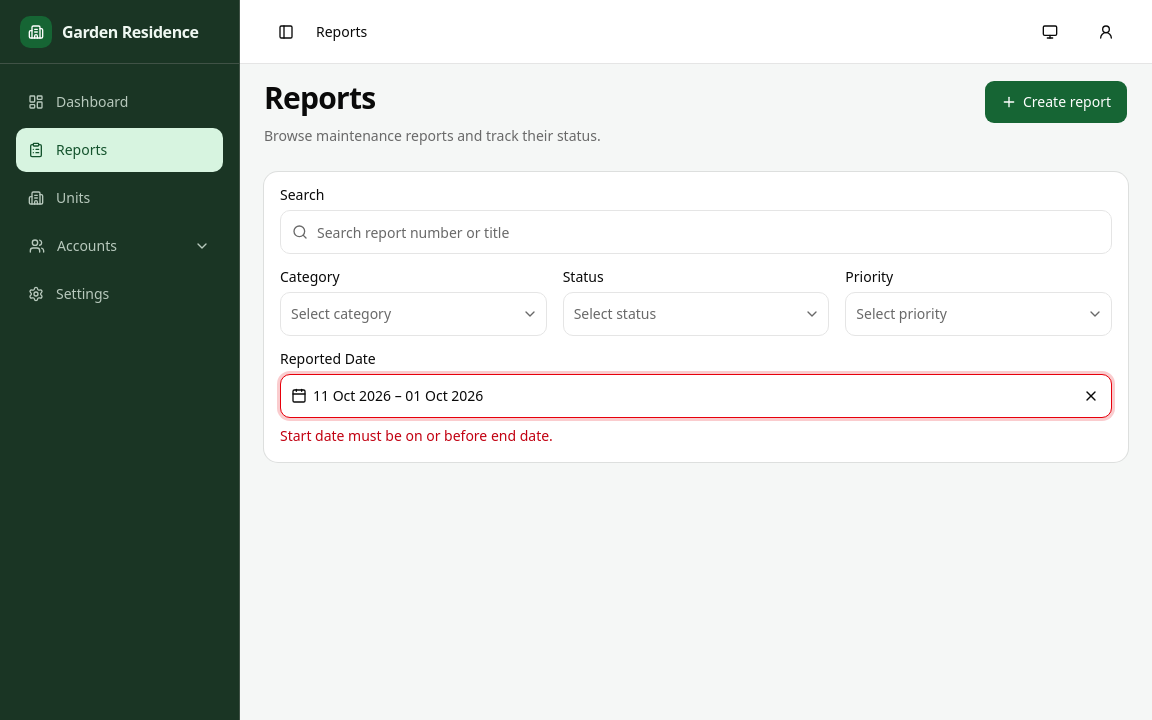
Test case: preserves reversed direct URL dates for correction without reading reports
The image size is (1152, 720).
Expected: the message reads "Start date must be on or before end date.", [280,426,553,445]
Click the button named "Clear reported date" at (1090, 396), box [1068,374,1112,418]
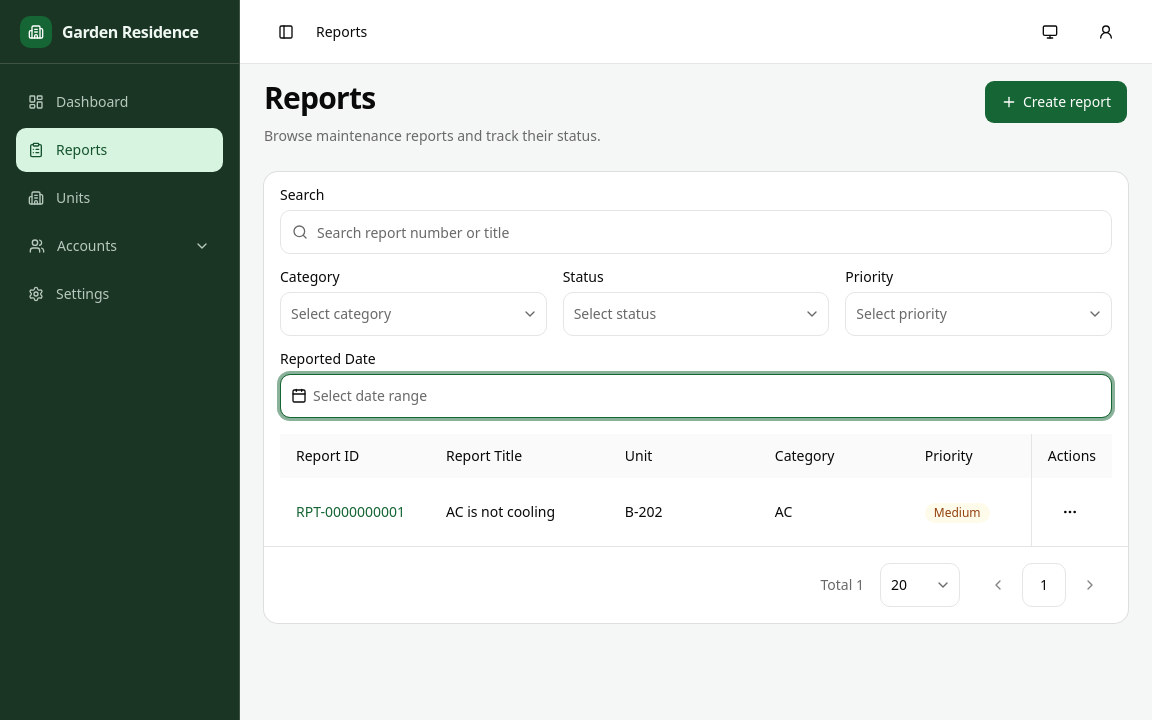
Now the table named "Reports" is shown, box [280,434,1112,546]
